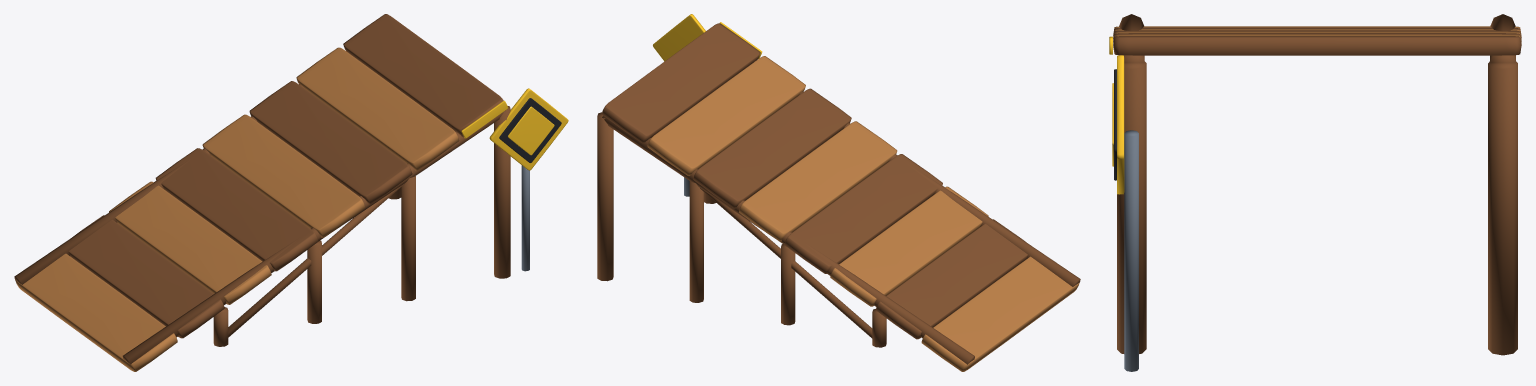
The model's file is ramp.glb.
3 views of the same model, side by side, from view 1: azimuth 30°, elevation 25°; view 2: azimuth 150°, elevation 25°; view 3: azimuth 270°, elevation 25° (orthographic). The views are drawn at different scales.
Visible parts, largest first — view 1: Frame, Plank7, Plank6, Plank5, Plank4, Plank3, Plank2, Plank0, Plank1, Sign; view 2: Frame, Plank7, Plank6, Plank5, Plank4, Plank3, Plank2, Plank0, Plank1, Sign; view 3: Frame, Plank7, Sign, Plank4, Plank5, Plank6, Plank3, Plank2, Plank1, Plank0.
Part boxes in pixels (x1,y1,x2,y2): Frame: (14,52,510,364); Plank7: (343,14,508,138); Plank6: (296,47,459,170); Plank5: (249,81,412,204); Plank4: (202,114,365,237); Plank3: (155,148,318,271); Plank2: (109,181,271,304); Plank0: (15,253,177,371); Plank1: (68,215,224,338); Sign: (489,88,568,271); Frame: (597,61,1080,364); Plank7: (601,22,762,143); Plank6: (647,56,805,175); Plank5: (693,88,851,208); Plank4: (739,121,897,241); Plank3: (784,154,942,273); Plank2: (830,186,988,306); Plank0: (921,256,1079,371); Plank1: (876,219,1027,339); Sign: (653,14,705,196); Frame: (1117,14,1517,355); Plank7: (1109,36,1521,55); Sign: (1112,55,1138,371); Plank4: (1113,31,1521,41); Plank5: (1113,33,1521,42); Plank6: (1113,34,1521,44); Plank3: (1113,30,1521,40); Plank2: (1113,29,1521,38); Plank1: (1113,27,1521,37); Plank0: (1113,26,1521,36).
Bounding box in the file's own units: 4.69 × 1.9 × 2.22.
